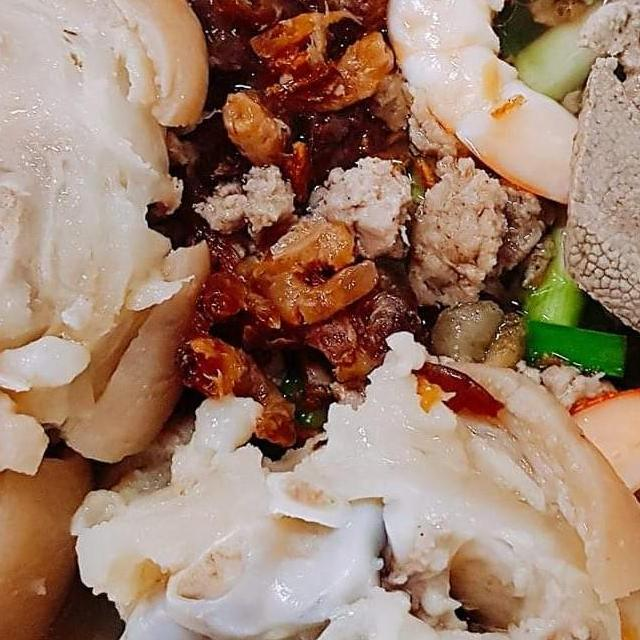gan: (550, 0, 640, 461)
thit bam: (180, 138, 560, 340)
tom: (366, 0, 640, 237), (418, 357, 640, 640)
